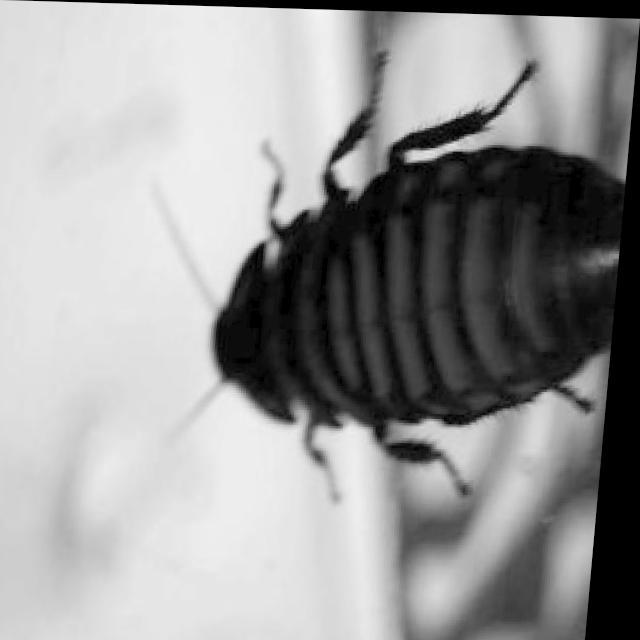cockroach: (178, 90, 634, 461)
